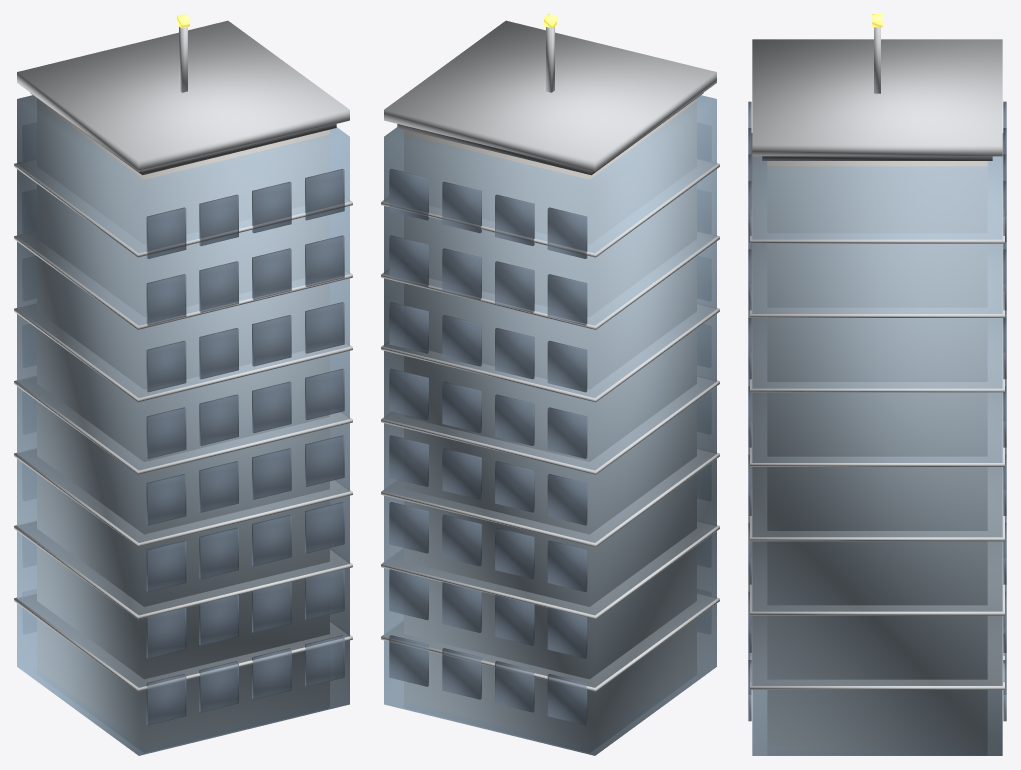
File: sky-tower-b.glb
The picture shows the model from 3 angles, left to right: view 1: azimuth 30°, elevation 25°; view 2: azimuth 150°, elevation 25°; view 3: azimuth 270°, elevation 25°; orthographic projection. The views are drawn at different scales.
Parts seen in each view (by area): view 1: CC_SkyTowerB_Shell, CC_SkyTowerB_Body, CC_SkyTowerB_Windows, CC_SkyTowerB_Ribs, CC_SkyTowerB_Parapet, CC_SkyTowerB_Roof, CC_SkyTowerB_Antenna; view 2: CC_SkyTowerB_Shell, CC_SkyTowerB_Body, CC_SkyTowerB_N_Windows, CC_SkyTowerB_Ribs, CC_SkyTowerB_Parapet, CC_SkyTowerB_Roof, CC_SkyTowerB_Antenna; view 3: CC_SkyTowerB_Shell, CC_SkyTowerB_Body, CC_SkyTowerB_Ribs, CC_SkyTowerB_Parapet, CC_SkyTowerB_N_Windows, CC_SkyTowerB_Windows, CC_SkyTowerB_Roof, CC_SkyTowerB_Antenna.
Part boxes in pixels (box(x1,y1,x2,y2)): CC_SkyTowerB_Shell: box(17, 95, 349, 755); CC_SkyTowerB_Body: box(37, 98, 329, 747); CC_SkyTowerB_Windows: box(146, 169, 344, 725); CC_SkyTowerB_Ribs: box(14, 159, 352, 691); CC_SkyTowerB_Parapet: box(17, 20, 349, 171); CC_SkyTowerB_Roof: box(30, 93, 336, 175); CC_SkyTowerB_Antenna: box(179, 27, 187, 92); CC_SkyTowerB_Shell: box(384, 95, 716, 755); CC_SkyTowerB_Body: box(404, 98, 696, 747); CC_SkyTowerB_N_Windows: box(389, 169, 587, 725); CC_SkyTowerB_Ribs: box(381, 159, 719, 691); CC_SkyTowerB_Parapet: box(384, 20, 716, 171); CC_SkyTowerB_Roof: box(397, 93, 703, 175); CC_SkyTowerB_Antenna: box(546, 27, 554, 92); CC_SkyTowerB_Shell: box(752, 156, 1002, 755); CC_SkyTowerB_Body: box(767, 161, 987, 749); CC_SkyTowerB_Ribs: box(750, 133, 1004, 689); CC_SkyTowerB_Parapet: box(752, 39, 1002, 156); CC_SkyTowerB_N_Windows: box(1003, 101, 1006, 721); CC_SkyTowerB_Windows: box(748, 101, 751, 721); CC_SkyTowerB_Roof: box(762, 156, 992, 160); CC_SkyTowerB_Antenna: box(874, 27, 880, 93).
Size of the model in its own units: 4.58 by 13.74 by 4.64.
